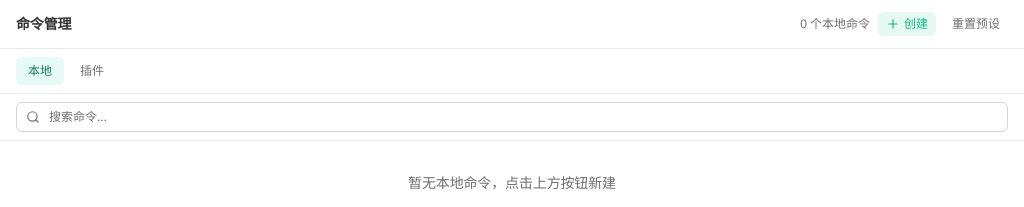
Scenario: CommandsDialog / PluginGroupCard 迁移后语义 › 初始折叠：header aria-expanded=false，命令卡片不渲染
Click the button "插件".
click(92, 71)  # box [68,57,116,85]
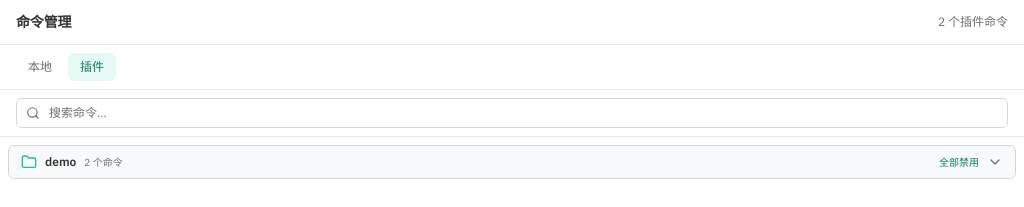
Expected: the button "demo 2 个命令 全部禁用" is shown, [9,146,1015,178]
